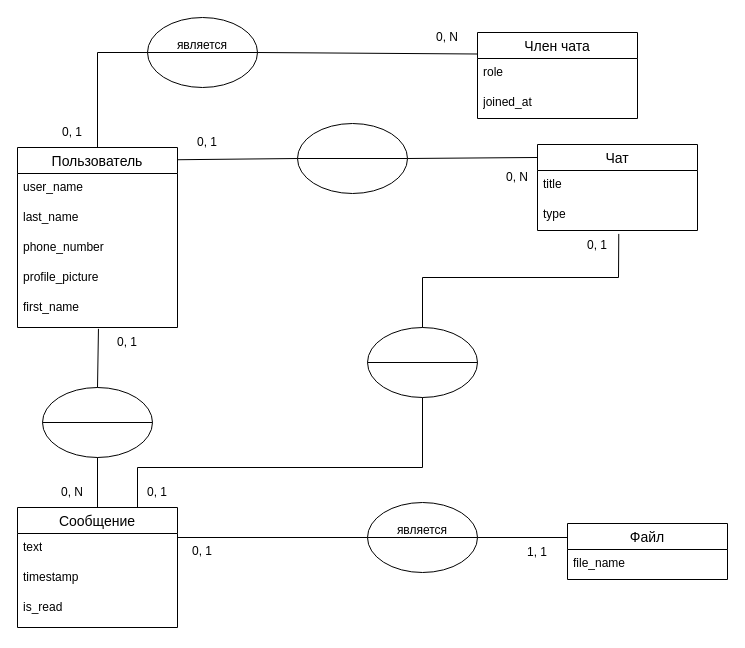
Some shapes in this 745 by 648 pixel diagram are drawn without their labels. Each missing label, with the centre of its shape:
"находится в" goes at point 422,362.
"отправляет" goes at point 97,422.
"состоит в" goes at point 352,158.
